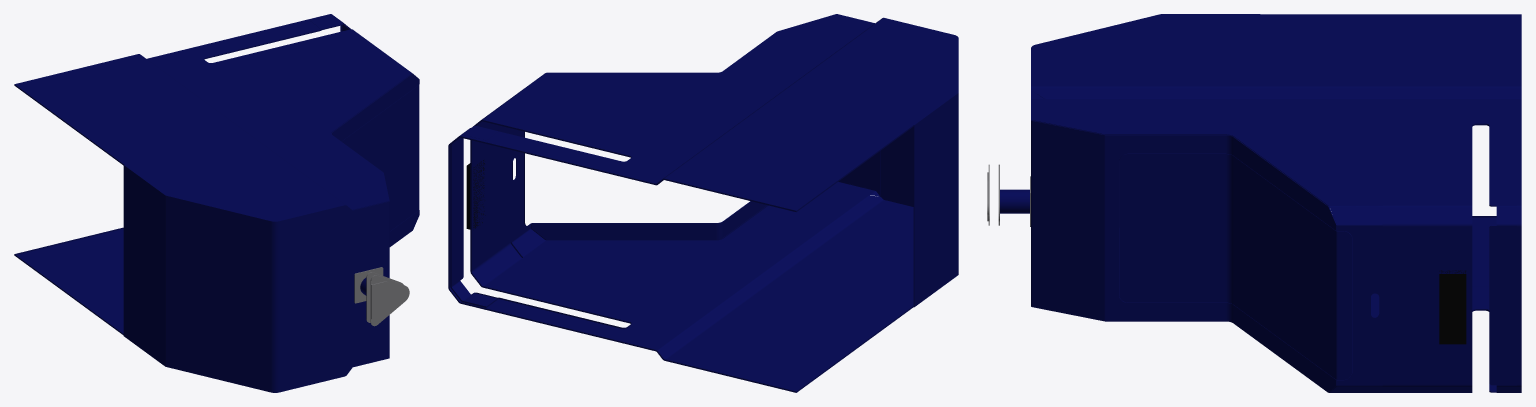
File: forklift_body.obj
3 views of the same model, side by side, from view 1: azimuth 30°, elevation 25°; view 2: azimuth 150°, elevation 25°; view 3: azimuth 270°, elevation 25° (orthographic). The views are drawn at different scales.
Visible parts, largest first — view 1: 1, 2, 3, 5, 6, 9, 4; view 2: 1, 2, 4, 10; view 3: 1, 3, 2, 4, 10, 8.
Boxes of the visible parts, bbox=[...] form: 1: bbox=[14, 14, 412, 392]; 2: bbox=[331, 73, 419, 373]; 3: bbox=[341, 85, 419, 231]; 5: bbox=[371, 281, 402, 319]; 6: bbox=[370, 275, 409, 326]; 9: bbox=[354, 267, 383, 303]; 4: bbox=[310, 15, 350, 30]; 1: bbox=[448, 14, 958, 392]; 2: bbox=[531, 32, 880, 239]; 4: bbox=[451, 126, 498, 306]; 10: bbox=[466, 160, 485, 229]; 1: bbox=[1031, 14, 1521, 392]; 3: bbox=[1119, 153, 1352, 379]; 2: bbox=[1031, 90, 1336, 392]; 4: bbox=[1489, 192, 1516, 392]; 10: bbox=[1439, 270, 1466, 344]; 8: bbox=[1000, 189, 1029, 213].
Bounding box in the file's own units: 1.53 × 0.75 × 1.79.
